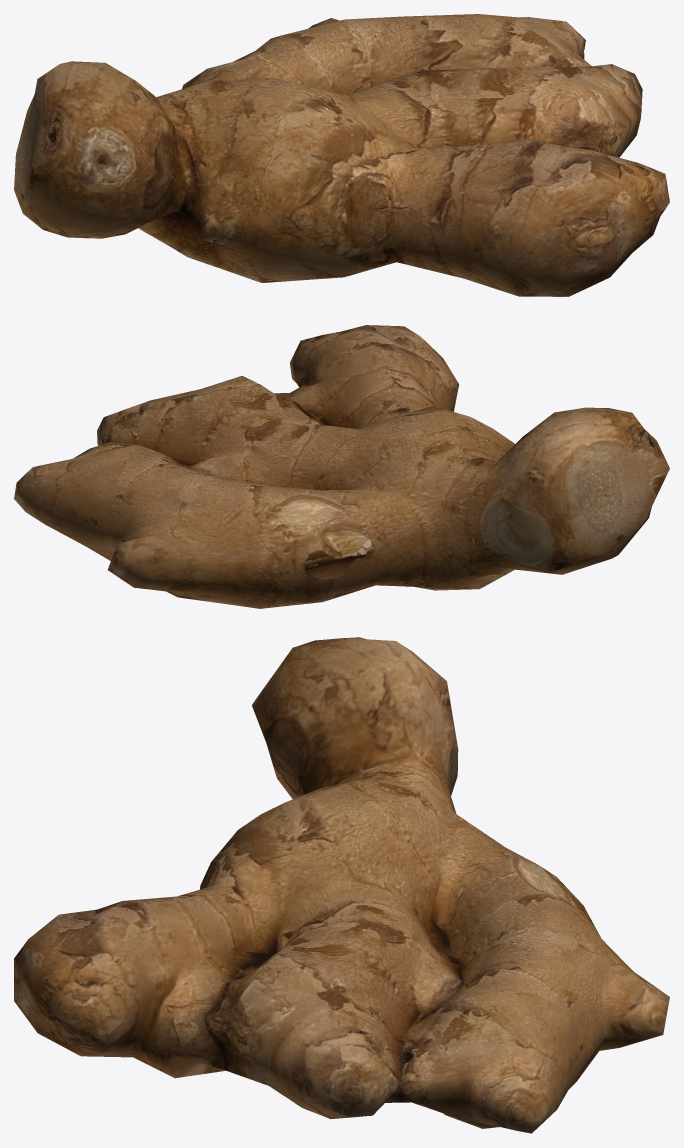
File: A76_Ginger_low.fbx
3 renders of one model, top to bottom at view 1: azimuth 30°, elevation 25°; view 2: azimuth 150°, elevation 25°; view 3: azimuth 270°, elevation 25°, orthographic. The views are drawn at different scales.
Parts seen in each view (by area): view 1: A76_Ginger_low; view 2: A76_Ginger_low; view 3: A76_Ginger_low.
Boxes of the visible parts, bbox=[...] form: A76_Ginger_low: bbox=[14, 14, 669, 296]; A76_Ginger_low: bbox=[14, 325, 669, 608]; A76_Ginger_low: bbox=[14, 637, 669, 1133].
Bounding box in the file's own units: 14.58 × 12.02 × 5.1.
Materials: 1 (1 with a texture image).
